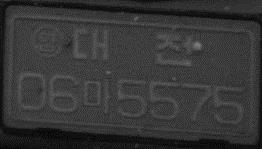0: (14, 70, 48, 113)
5: (146, 78, 181, 121), (114, 76, 147, 119), (212, 82, 244, 126)
6: (47, 71, 78, 115)
7: (181, 80, 213, 123)
대전_D: (68, 24, 193, 68)
마: (81, 75, 112, 116)
영: (30, 23, 65, 59)
